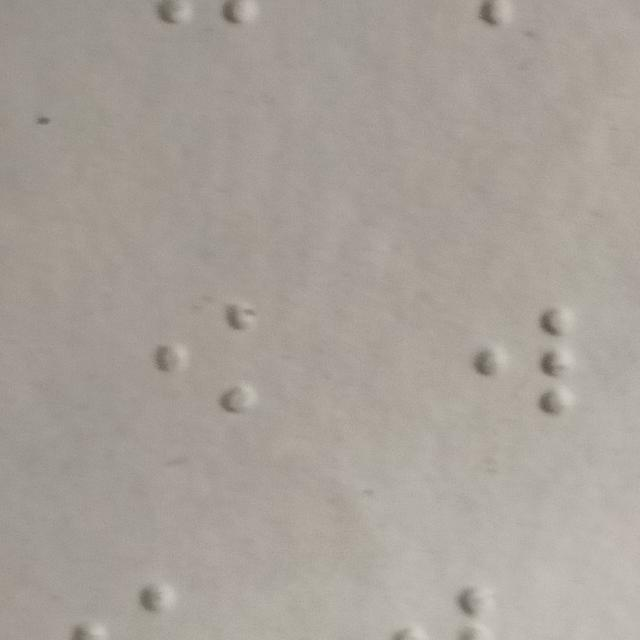dot_5: (112, 300, 190, 415), (425, 307, 503, 417)
two_cell_alphabet_kailangan: (223, 300, 301, 415)
two_cell_alphabet_larawan: (536, 306, 615, 417)
